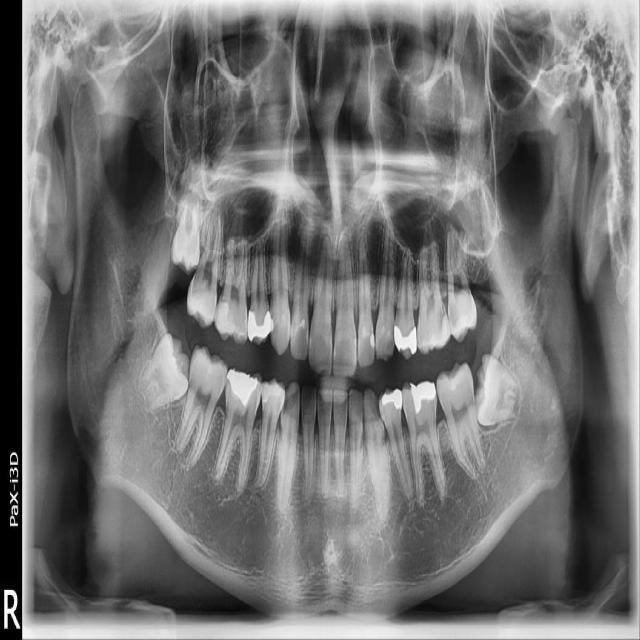3M ESPE Implant: (170, 163, 201, 276)
52: (431, 360, 478, 417), (218, 366, 265, 422), (415, 300, 451, 356), (400, 380, 438, 430), (213, 294, 250, 345), (389, 304, 420, 362), (268, 298, 293, 356), (259, 377, 288, 424), (289, 305, 310, 361), (247, 301, 272, 347), (374, 310, 395, 362), (378, 388, 403, 431), (358, 314, 375, 368)
73: (578, 526, 592, 526)
BioHorizons Implant: (444, 211, 478, 343)
Biomet 3i Implant: (469, 352, 527, 432)
Blue Sky Bio Implant: (433, 360, 488, 483)
Caries: (184, 180, 227, 331)
Implant: (172, 343, 232, 471)
Keystone Dental Implant: (128, 330, 208, 423)
